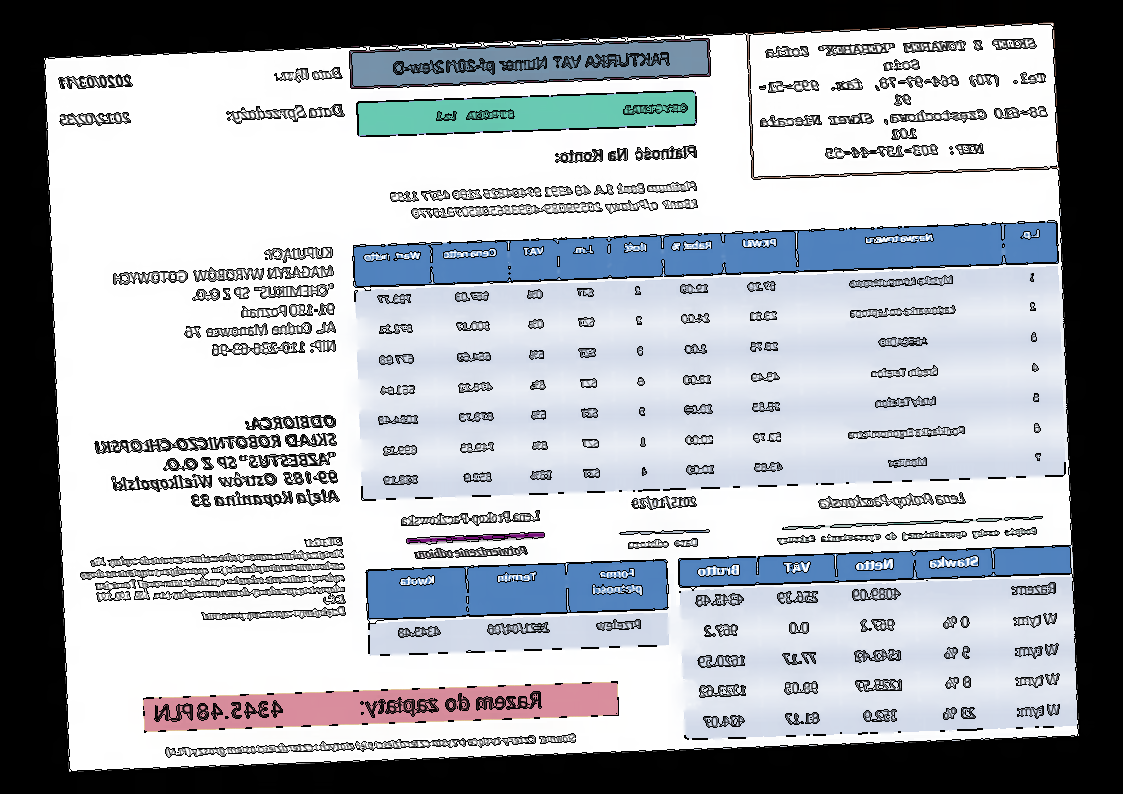Table: (351, 220, 1068, 502), (677, 544, 1078, 742), (364, 558, 671, 657)
TextBox: (754, 35, 1053, 162), (109, 242, 339, 362), (76, 534, 348, 628), (93, 412, 341, 514), (153, 689, 543, 726), (388, 178, 701, 222), (163, 731, 578, 759), (389, 47, 673, 80), (432, 100, 689, 124), (776, 525, 1040, 546), (817, 489, 967, 512), (552, 143, 699, 166), (401, 507, 544, 529), (223, 102, 346, 125), (414, 542, 530, 561), (57, 72, 133, 91), (58, 109, 133, 128), (273, 64, 344, 84), (630, 493, 698, 513), (627, 535, 700, 551)
